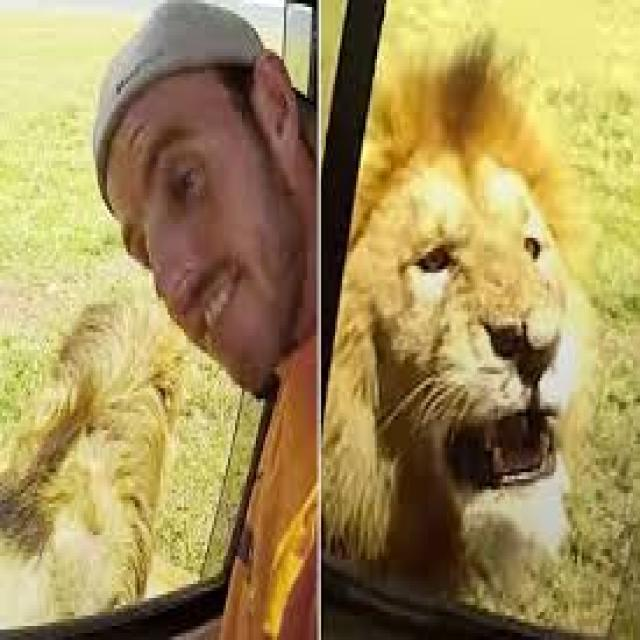Lion: (323, 26, 599, 591)
